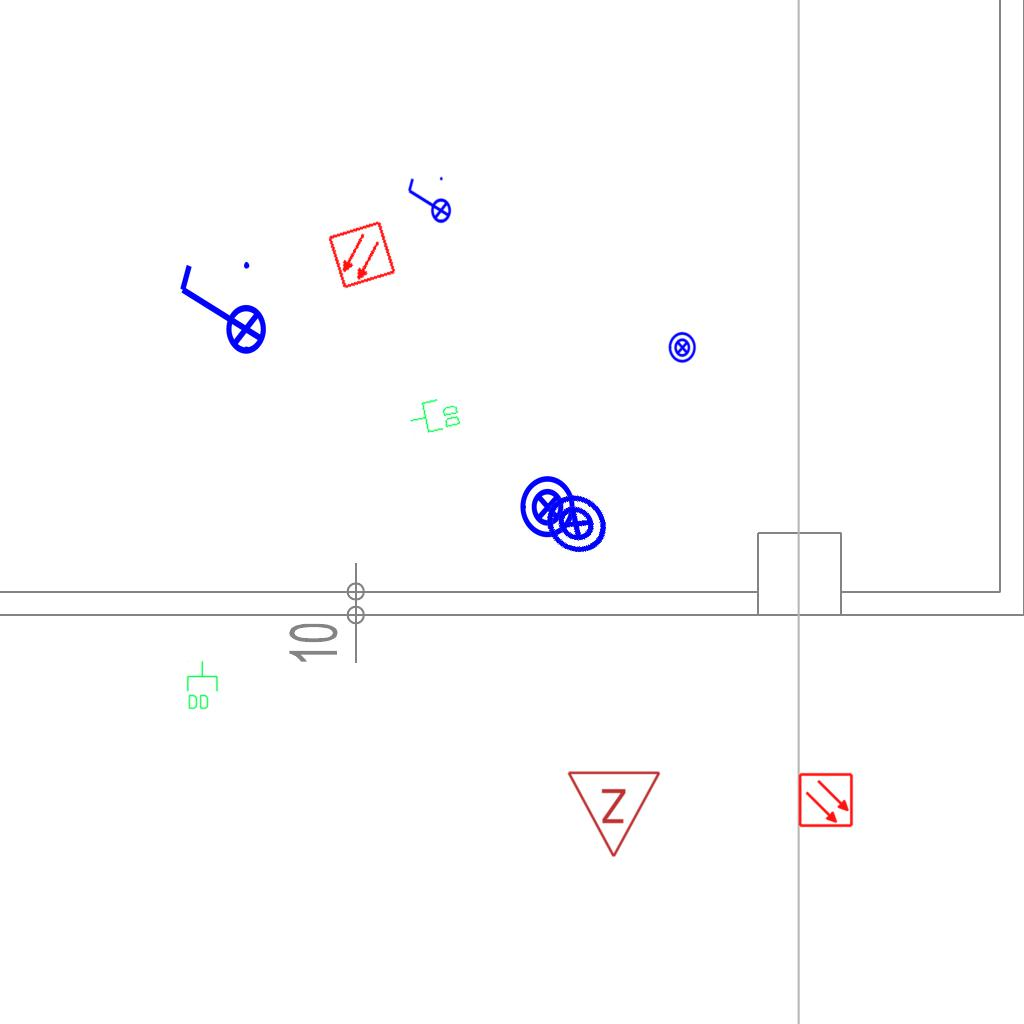Ausschalter_beleuchtet: (172, 256, 268, 368), (404, 174, 452, 230)
Datenanschluss_zweifach: (406, 394, 463, 438), (185, 660, 219, 711)
RMO_Rauchmelder_optischer: (327, 220, 397, 290), (798, 772, 854, 828)
Taster_beleuchtet: (529, 477, 623, 571), (515, 474, 581, 540), (666, 331, 699, 364)
Zimmersignalleuchte: (566, 764, 664, 864)
